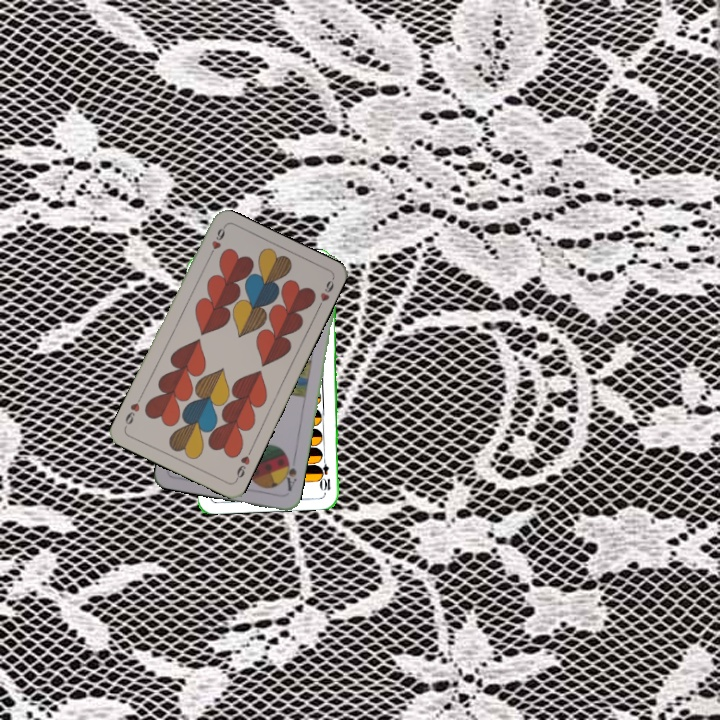E10: (318, 453, 333, 493)
H9: (204, 223, 228, 262), (231, 445, 254, 484)
SA: (279, 454, 299, 494)
